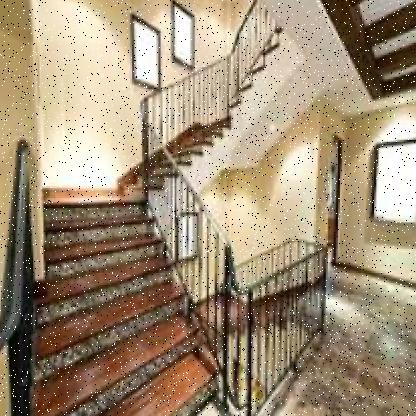stair_up: (31, 250, 217, 416)
